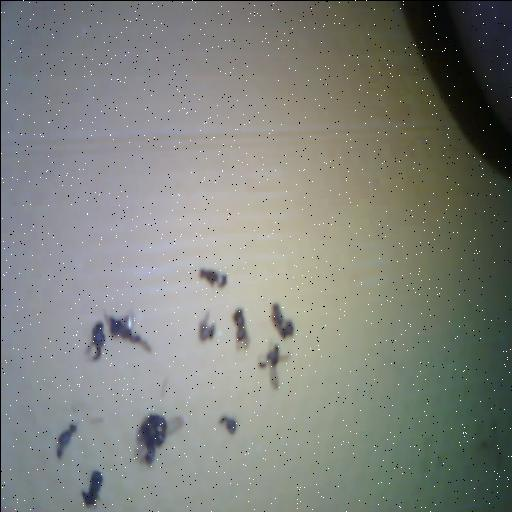Insects: (104, 312, 150, 352), (257, 345, 289, 389), (145, 414, 181, 446), (135, 417, 155, 463), (84, 322, 104, 361), (81, 472, 102, 507), (271, 304, 292, 338), (56, 424, 76, 458), (232, 309, 248, 348), (199, 269, 226, 288)
dust: (198, 312, 214, 341), (219, 416, 236, 434)
hole: (399, 1, 511, 180)
